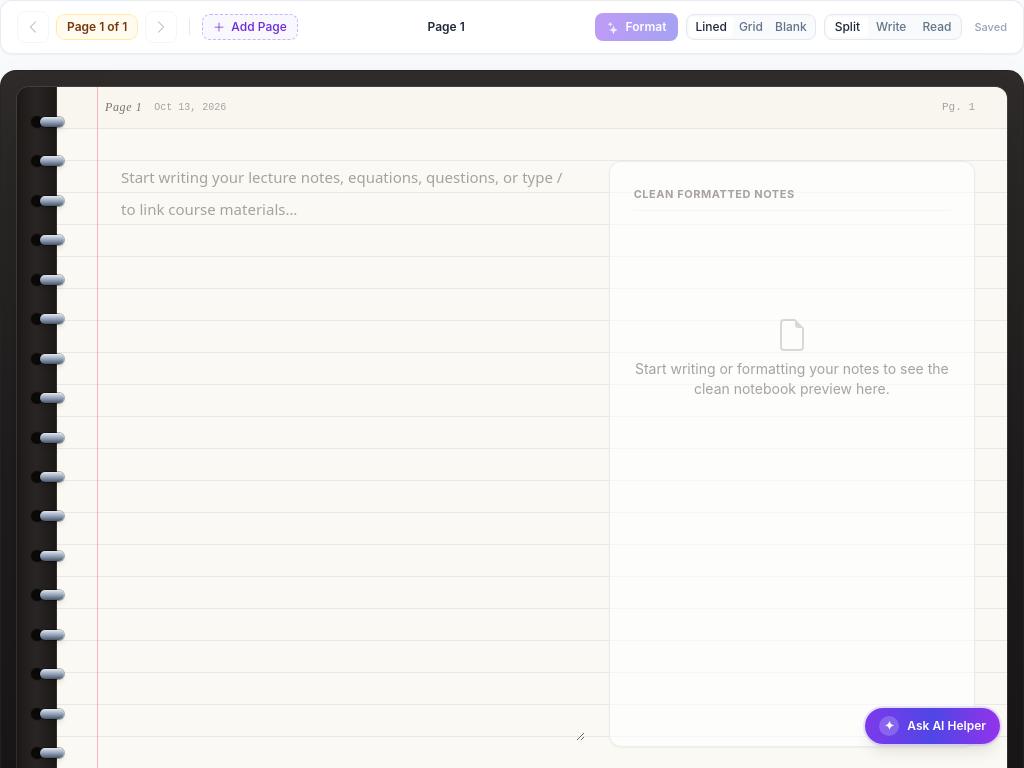
Scenario: SubjectNotesPage › loads, links materials with slash autocomplete, and autosaves
Replace the text in the text box with placeholder "Start writing your lecture notes" with "Review /lec" at (337, 450), box [89,160,585,740]
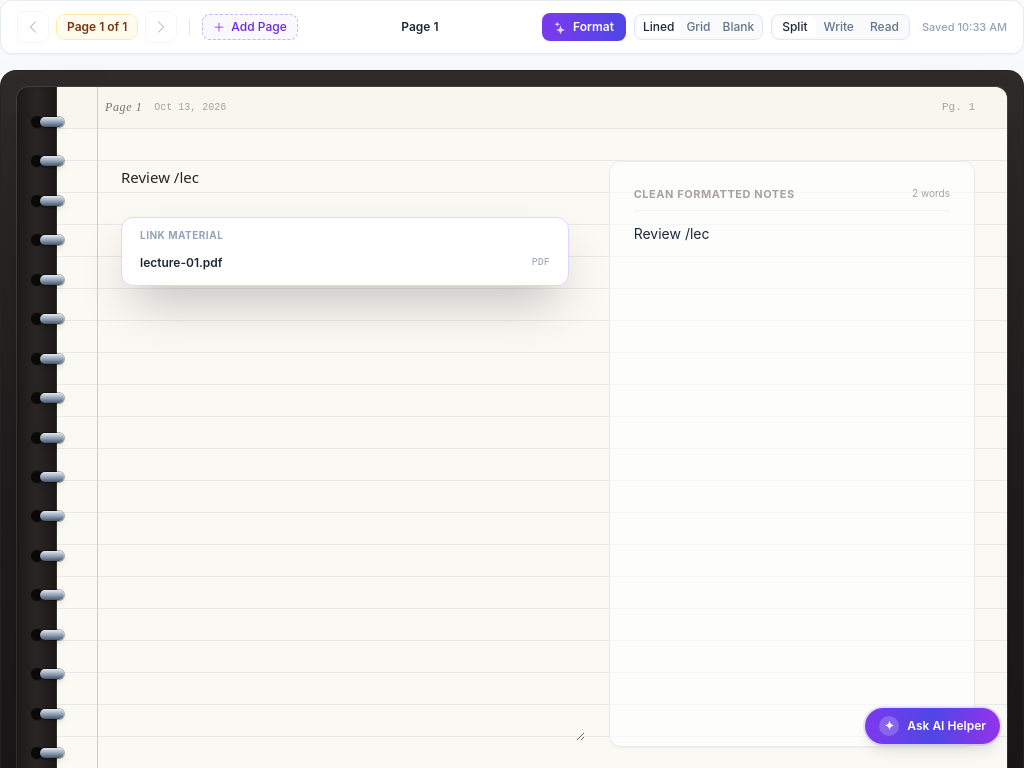
Check: the text "lecture-01.pdf" is shown
Click the text "lecture-01.pdf" at (185, 262), box [140,254,230,270]
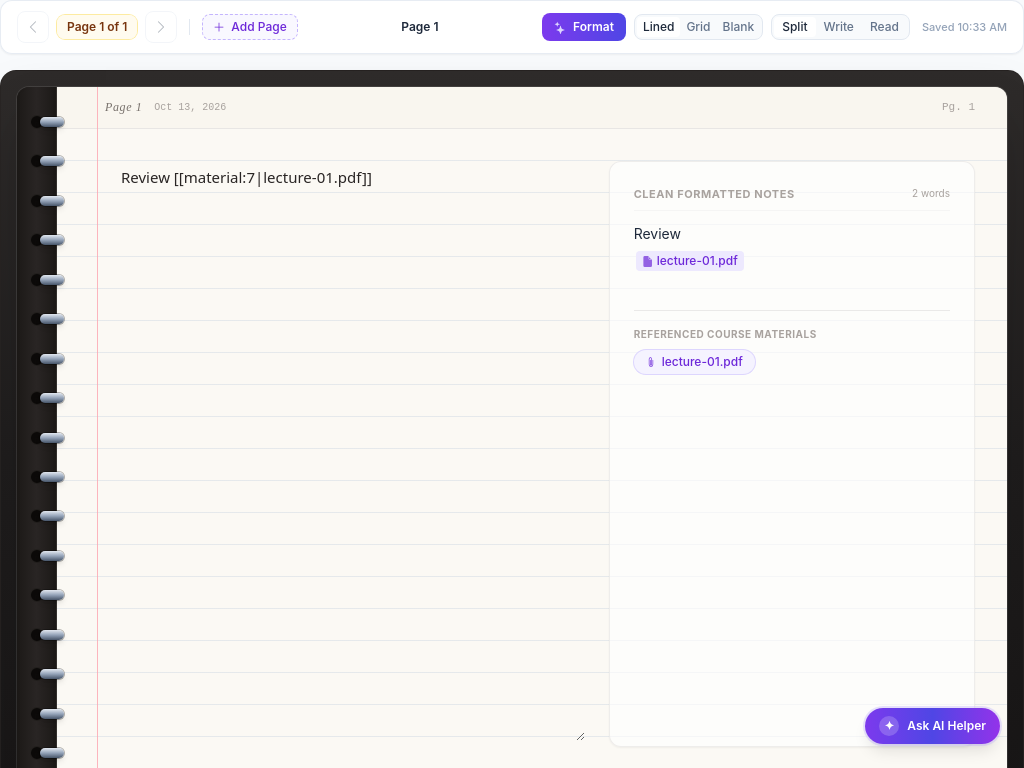
Check: the text box with placeholder "Start writing your lecture notes" holds "Review [ [material:7|lecture-01.pdf]]", box [89,160,585,740]
